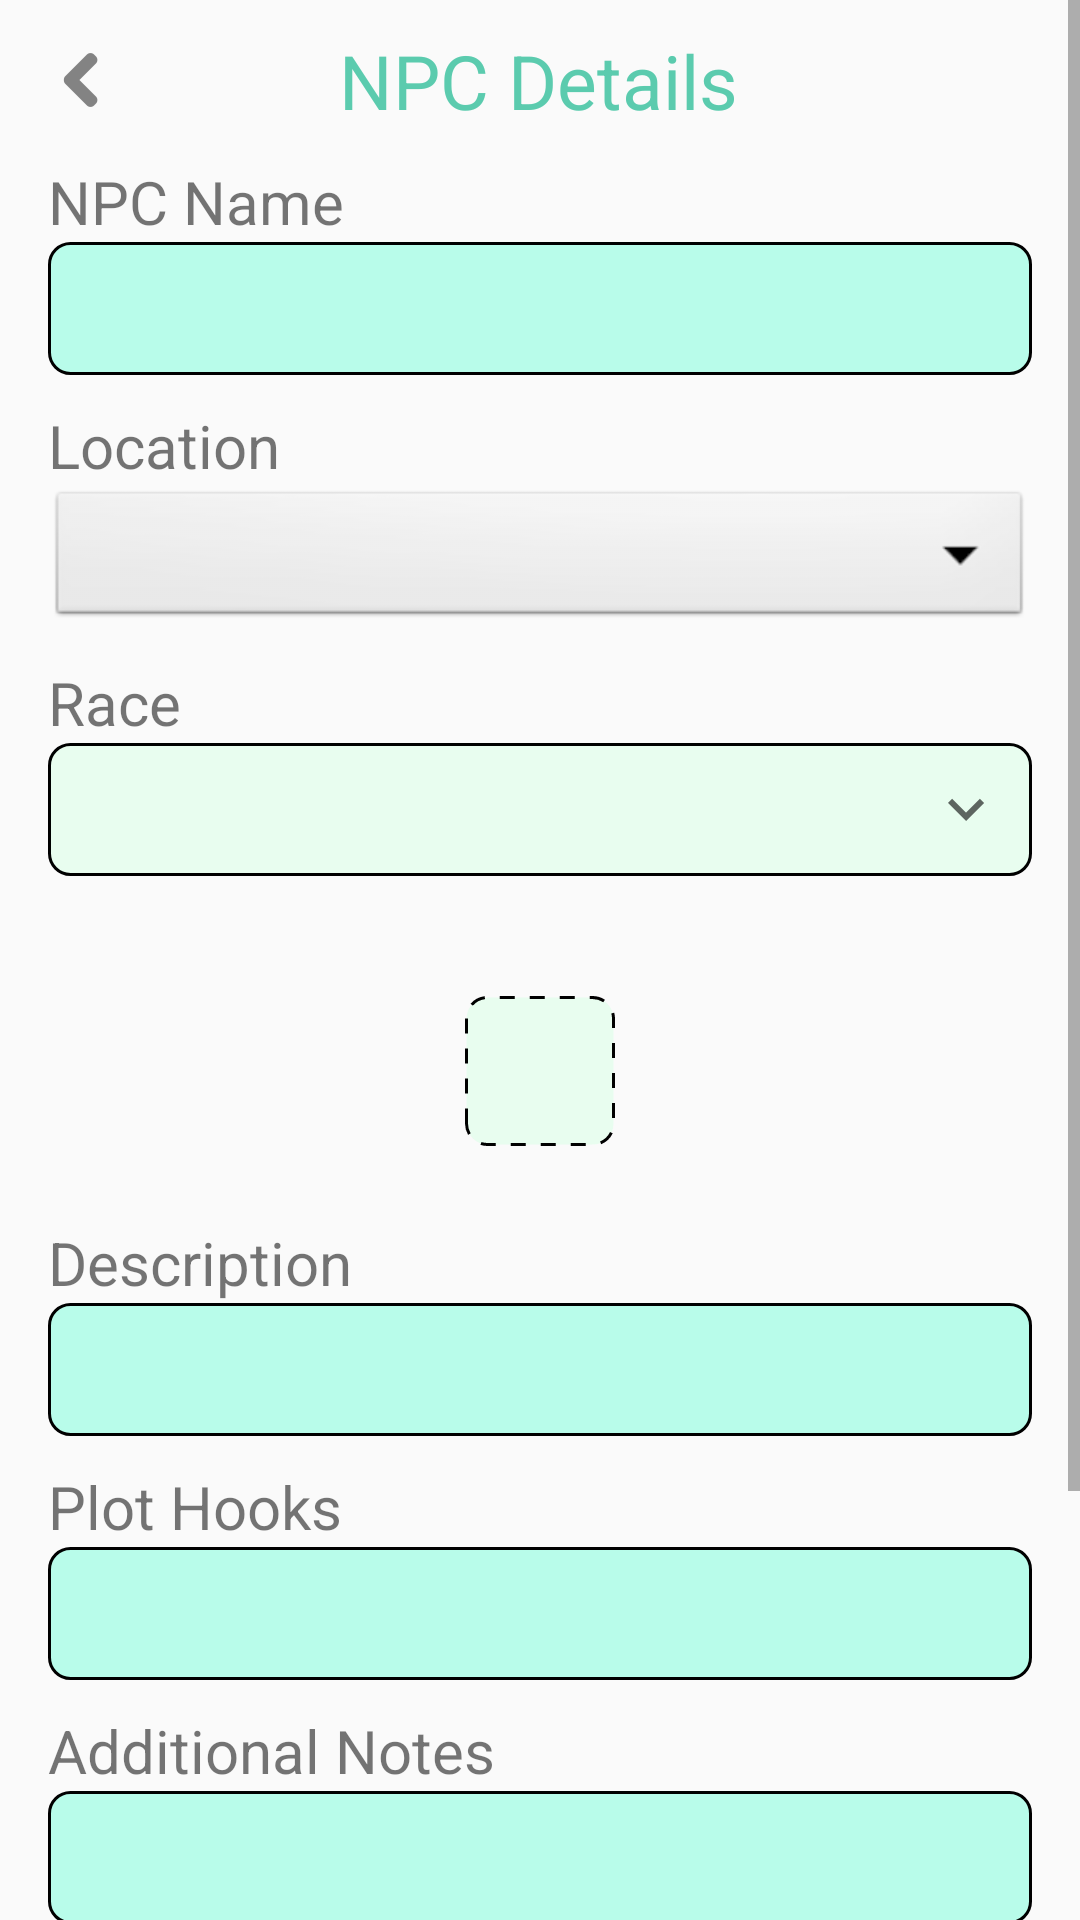

Screen size 1080x1920. Icon name, then its center in pixels as (x=x, y=y):
backarrow: (x=81, y=80)
downarrow: (x=966, y=809)
